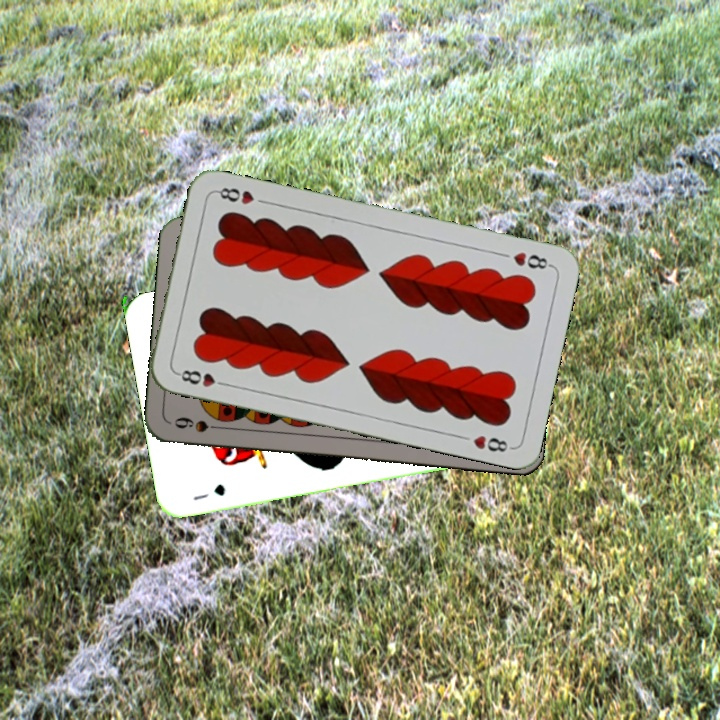GU: (189, 480, 228, 503)
H8: (173, 365, 231, 390), (509, 248, 555, 272)
S9: (170, 413, 228, 435)
